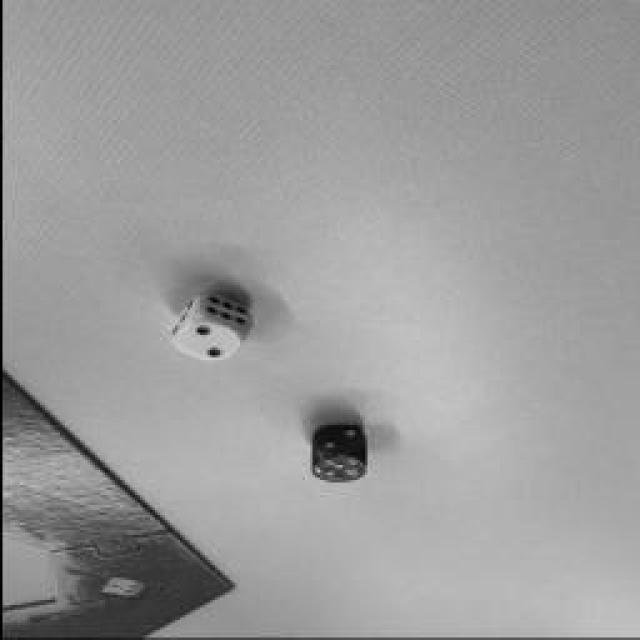dice_2: (172, 321, 238, 361)
dice_4: (310, 456, 362, 484)
